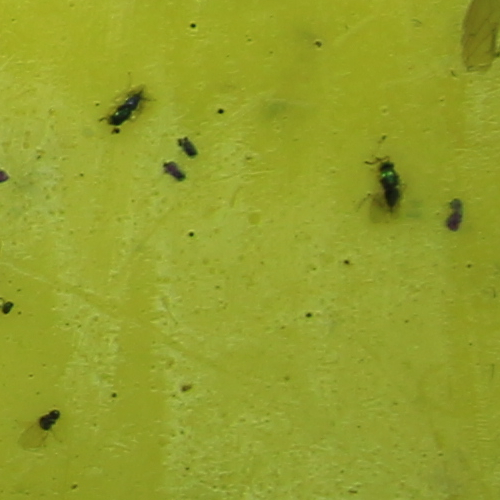Psyllaephagus: (369, 158, 405, 214), (108, 85, 148, 126)
